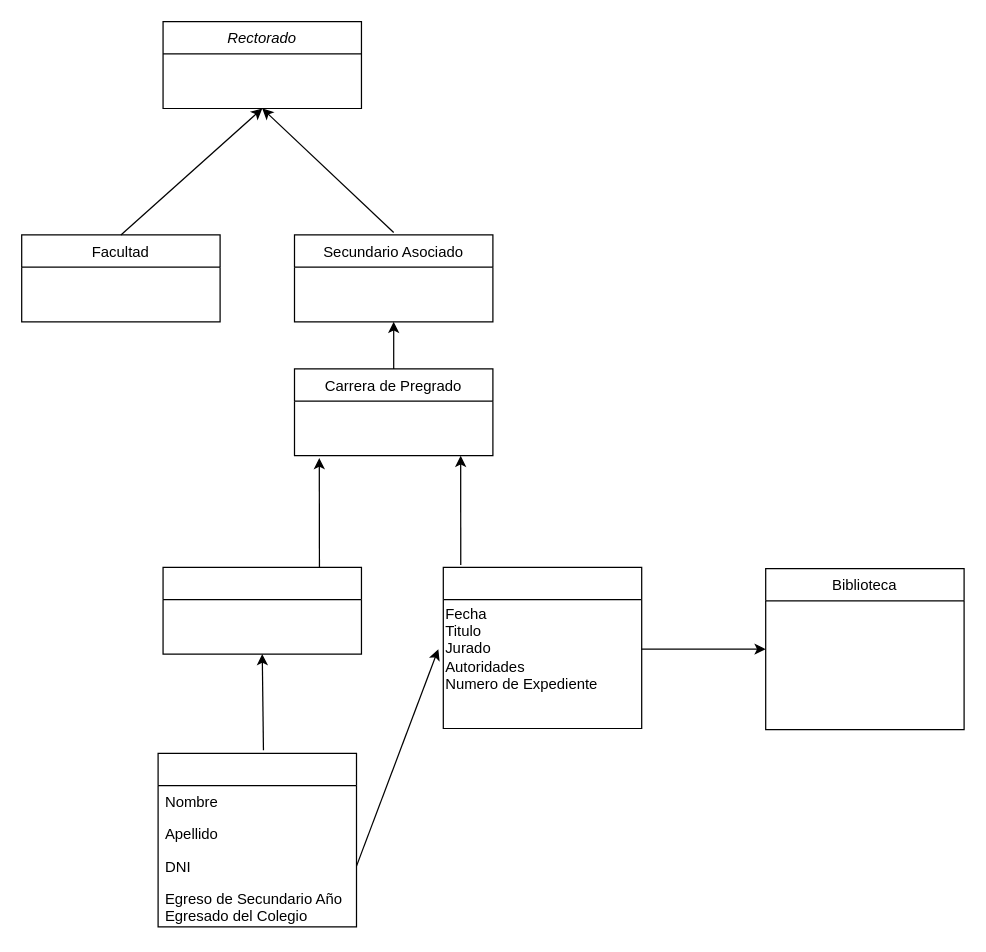
Image size: 986x952. Some labels were removed from this diagram. The shapes that lost their labels are listed below. From the top down, each one's box as (x1, y1, x2, y2) in pixels, then its label:
(162, 566, 361, 654): Materia
(442, 566, 642, 728): Tesis
(157, 752, 356, 927): Alumno
